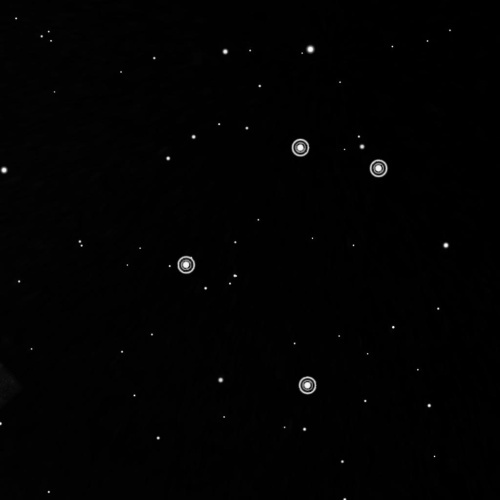coma_berenices: (171, 125, 393, 402)
